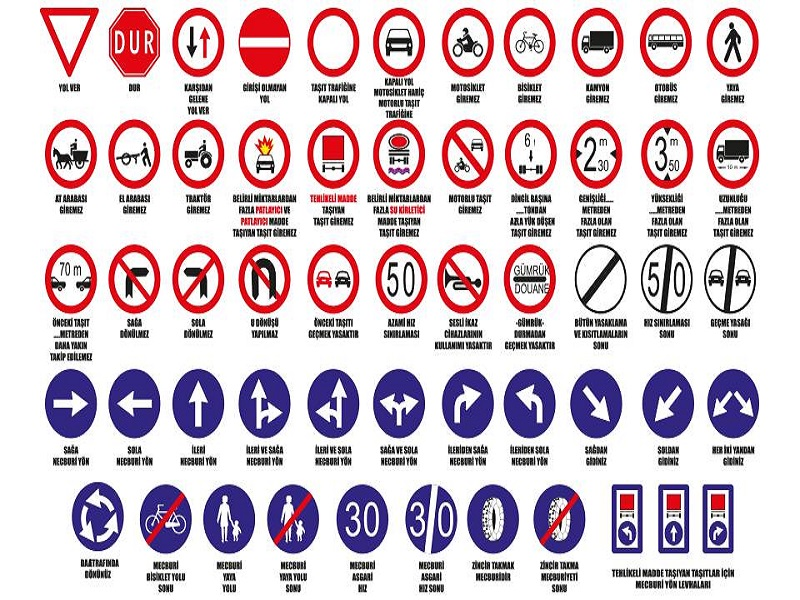sagaDon: (31, 365, 101, 440)
solaDon: (102, 357, 164, 441)
